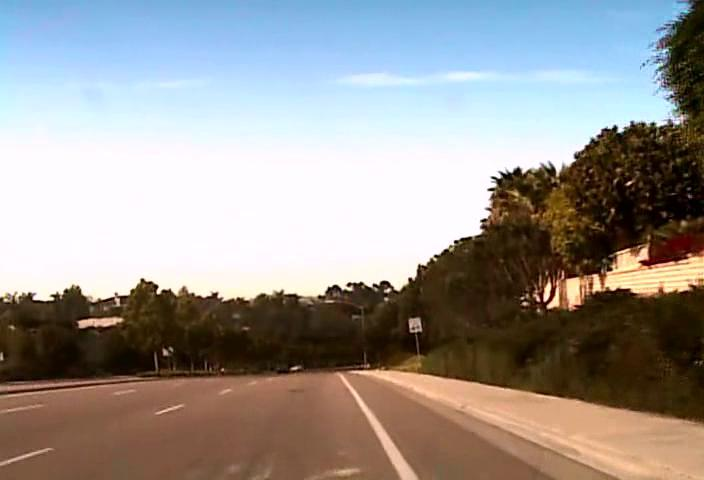speedLimitUrdbl: (408, 316, 422, 333)
